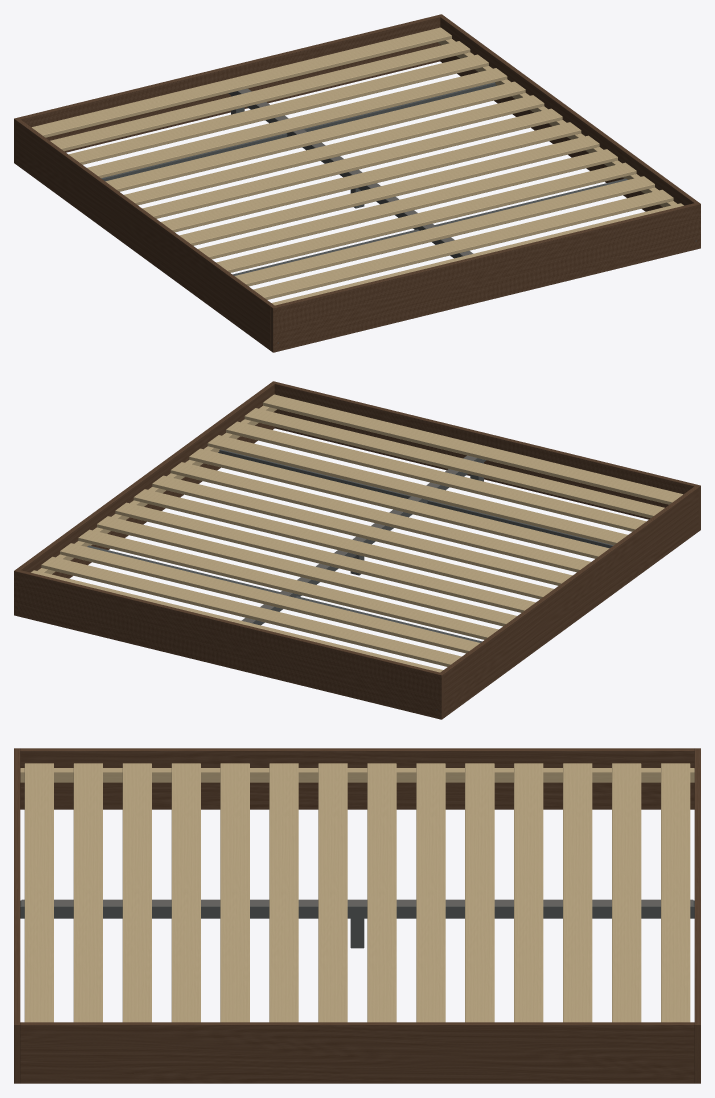
3 renders of one model, top to bottom at view 1: azimuth 30°, elevation 25°; view 2: azimuth 150°, elevation 25°; view 3: azimuth 270°, elevation 25°, orthographic. The views are drawn at different scales.
Parts seen in each view (by area): view 1: Foot walnut panel, Left walnut side panel, Head walnut panel no headboard, Wood support slat 04, Wood support slat 07, Wood support slat 13, Wood support slat 02, Wood support slat 03, Wood support slat 06, Wood support slat 08, Wood support slat 01, Wood support slat 05 (+11 smaller); view 2: Head walnut panel no headboard, Left walnut side panel, Foot walnut panel, Wood support slat 02, Wood support slat 08, Wood support slat 11, Wood support slat 07, Wood support slat 09, Wood support slat 12, Wood support slat 13, Wood support slat 04, Wood support slat 10 (+11 smaller); view 3: Right walnut side panel, Left walnut side panel, Wood support slat 05, Wood support slat 06, Wood support slat 07, Wood support slat 08, Wood support slat 09, Wood support slat 10, Wood support slat 03, Wood support slat 04, Wood support slat 11, Wood support slat 12 (+9 smaller).
Boxes of the visible parts, bbox=[...] form: Foot walnut panel: bbox=[271, 202, 700, 352]; Left walnut side panel: bbox=[16, 119, 274, 350]; Head walnut panel no headboard: bbox=[14, 14, 443, 164]; Wood support slat 04: bbox=[87, 68, 507, 178]; Wood support slat 07: bbox=[142, 108, 562, 218]; Wood support slat 13: bbox=[253, 189, 673, 299]; Wood support slat 02: bbox=[50, 41, 470, 151]; Wood support slat 03: bbox=[68, 54, 488, 164]; Wood support slat 06: bbox=[124, 95, 544, 205]; Wood support slat 08: bbox=[161, 122, 581, 232]; Wood support slat 01: bbox=[32, 27, 451, 137]; Wood support slat 05: bbox=[105, 81, 525, 191]; Head walnut panel no headboard: bbox=[14, 569, 443, 719]; Left walnut side panel: bbox=[440, 486, 698, 717]; Foot walnut panel: bbox=[271, 381, 700, 531]; Wood support slat 02: bbox=[41, 556, 461, 666]; Wood support slat 08: bbox=[152, 475, 572, 585]; Wood support slat 11: bbox=[207, 435, 627, 545]; Wood support slat 07: bbox=[133, 489, 553, 599]; Wood support slat 09: bbox=[170, 462, 590, 572]; Wood support slat 12: bbox=[226, 421, 646, 531]; Wood support slat 13: bbox=[244, 408, 664, 518]; Wood support slat 04: bbox=[78, 529, 498, 639]; Wood support slat 10: bbox=[189, 448, 609, 558]; Right walnut side panel: bbox=[20, 1022, 694, 1083]; Left walnut side panel: bbox=[20, 748, 694, 809]; Wood support slat 05: bbox=[465, 763, 494, 1022]; Wood support slat 06: bbox=[416, 763, 445, 1022]; Wood support slat 07: bbox=[367, 763, 396, 1022]; Wood support slat 08: bbox=[318, 763, 347, 1022]; Wood support slat 09: bbox=[269, 763, 298, 1022]; Wood support slat 10: bbox=[220, 763, 249, 1022]; Wood support slat 03: bbox=[563, 763, 592, 1022]; Wood support slat 04: bbox=[514, 763, 543, 1022]; Wood support slat 11: bbox=[171, 763, 200, 1022]; Wood support slat 12: bbox=[122, 763, 151, 1022].
Bounding box in the file's own units: 1.96 × 0.1956 × 2.06.
4 materials, 2 textured.
